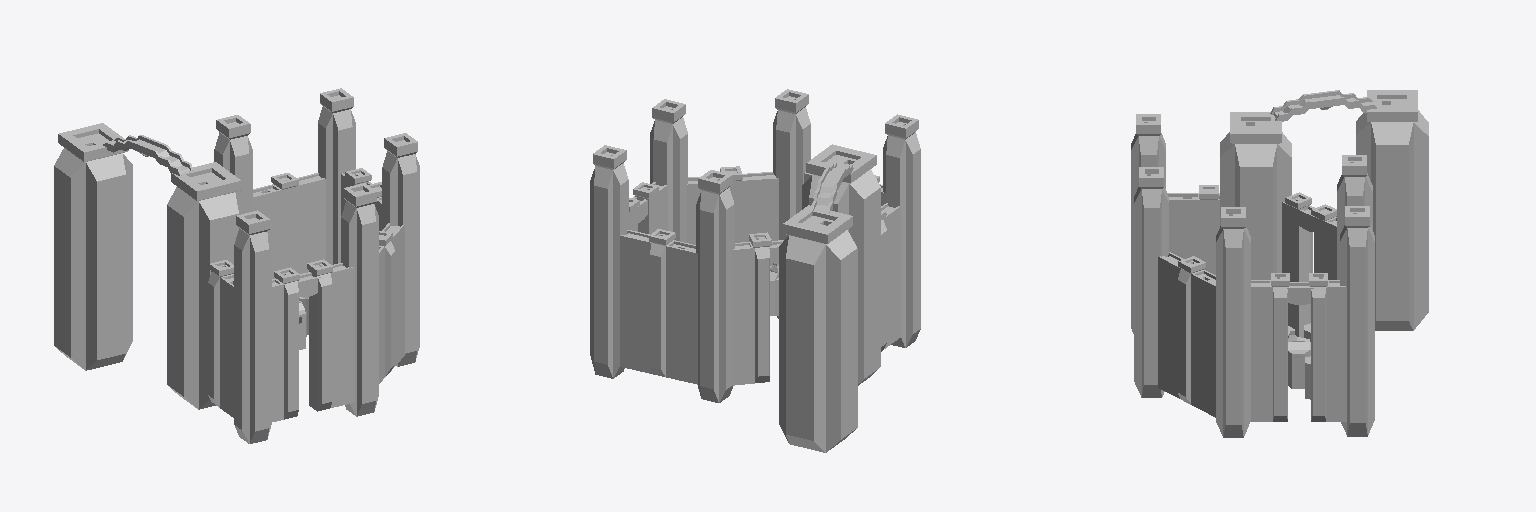
File: Dwarf Fortress.obj
3 views of the same model, side by side, from view 1: azimuth 30°, elevation 25°; view 2: azimuth 150°, elevation 25°; view 3: azimuth 270°, elevation 25° (orthographic).
Visible parts, largest first — view 1: Plane.011, Plane.012, Plane.004, Plane.008, Plane.006, Plane.002, Plane.007, Plane.009, Plane.005, Plane, Plane.010, Cube (+1 smaller); view 2: Plane.011, Plane.002, Plane.010, Plane.009, Plane.012, Plane.008, Plane.003, Plane.006, Plane.007, Plane, Plane.005, Plane.001 (+1 smaller); view 3: Plane.011, Plane.001, Plane.012, Plane, Plane.007, Plane.009, Plane.006, Plane.003, Plane.005, Plane.008, Plane.010, Cube (+1 smaller).
Boxes of the visible parts, box(x1,y1,x2,y2) form: Plane.011: box(54, 123, 132, 370); Plane.012: box(167, 162, 245, 409); Plane.004: box(272, 259, 354, 421); Plane.008: box(234, 210, 271, 443); Plane.006: box(341, 183, 378, 416); Plane.002: box(253, 173, 325, 278); Plane.007: box(382, 133, 419, 366); Plane.009: box(318, 88, 355, 264); Plane.005: box(208, 260, 233, 417); Plane: box(379, 223, 404, 383); Plane.010: box(214, 115, 252, 212); Cube: box(103, 135, 193, 175); Plane.011: box(779, 205, 857, 452); Plane.002: box(620, 229, 697, 384); Plane.010: box(696, 170, 734, 402); Plane.009: box(590, 145, 628, 378); Plane.012: box(802, 144, 880, 385); Plane.008: box(883, 114, 920, 347); Plane.003: box(732, 232, 788, 385); Plane.006: box(773, 89, 810, 318); Plane.007: box(650, 99, 687, 242); Plane: box(687, 166, 778, 265); Plane.005: box(881, 203, 900, 351); Plane.001: box(629, 182, 667, 234); Plane.011: box(1356, 90, 1428, 330); Plane.001: box(1251, 273, 1346, 421); Plane.012: box(1220, 112, 1291, 279); Plane: box(1158, 252, 1215, 417); Plane.007: box(1216, 207, 1250, 437); Plane.009: box(1340, 206, 1374, 436); Plane.006: box(1134, 167, 1168, 397); Plane.003: box(1282, 192, 1336, 337); Plane.005: box(1168, 185, 1219, 274); Plane.008: box(1131, 114, 1165, 333); Plane.010: box(1337, 155, 1372, 279); Cube: box(1270, 90, 1376, 121).
Size of the model in its own units: 0.9654 by 0.7921 by 0.9054.